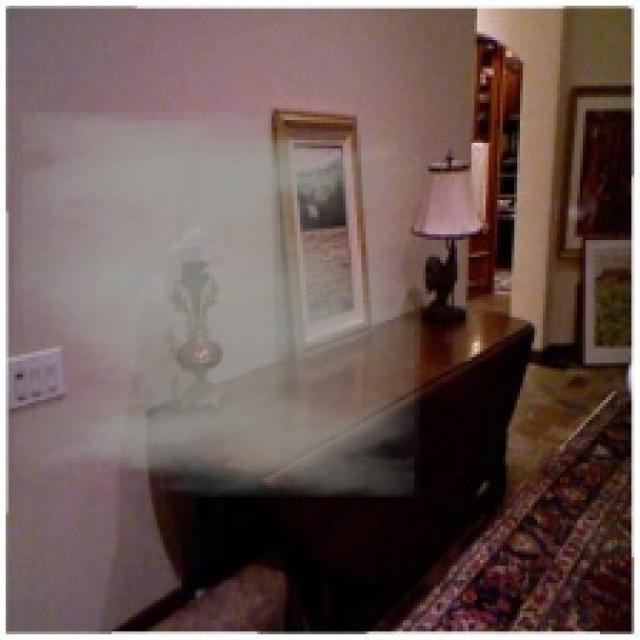Smoke: (14, 112, 420, 497)
